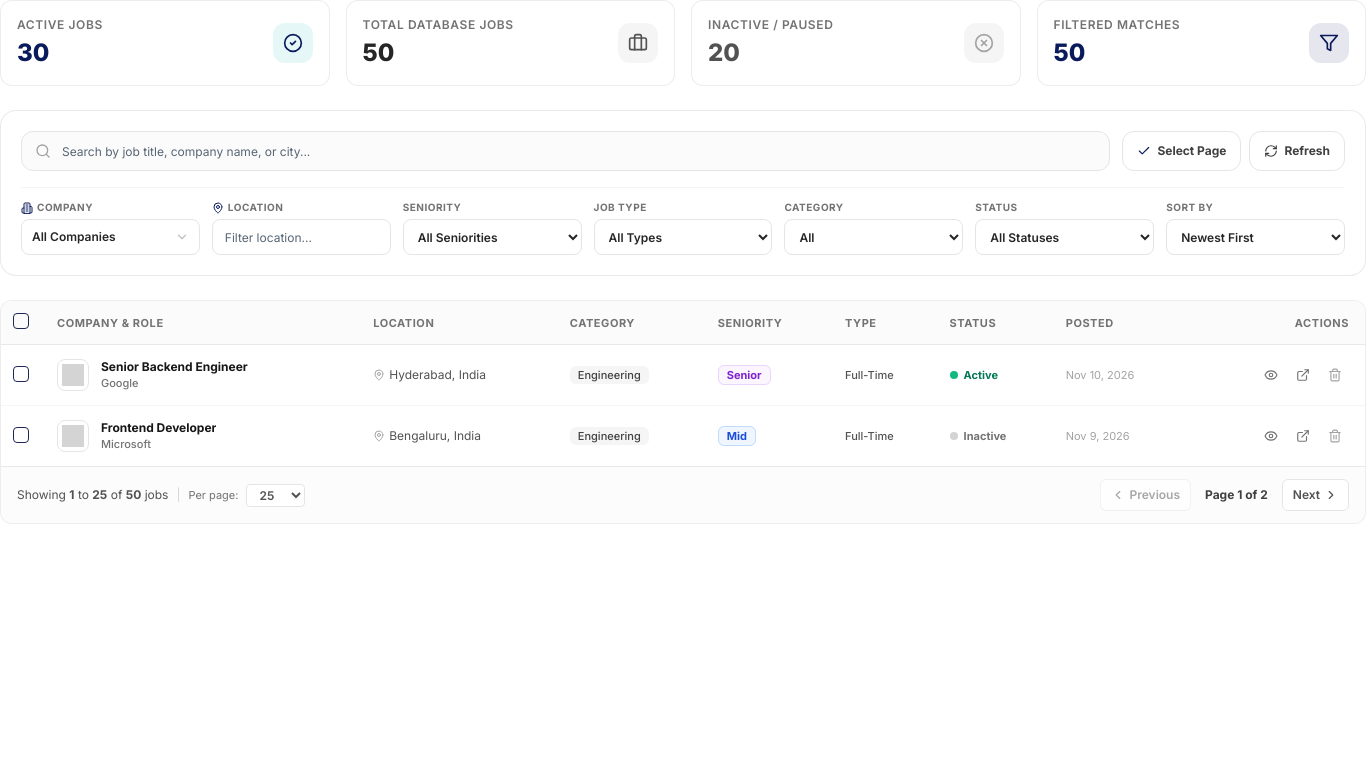
Test case: Admin JobsTab Component › allows selecting all matching jobs across all pages and deleting
The image size is (1366, 768).
Later steps or results of the test are not shown.
Expected: the button "Senior Backend Engineer" is shown, [101,359,248,375]
# Header checkbox to select all on page
Step 1. Click the checkbox named "Select all jobs on current page" → point(21, 321), box [13,313,29,329]
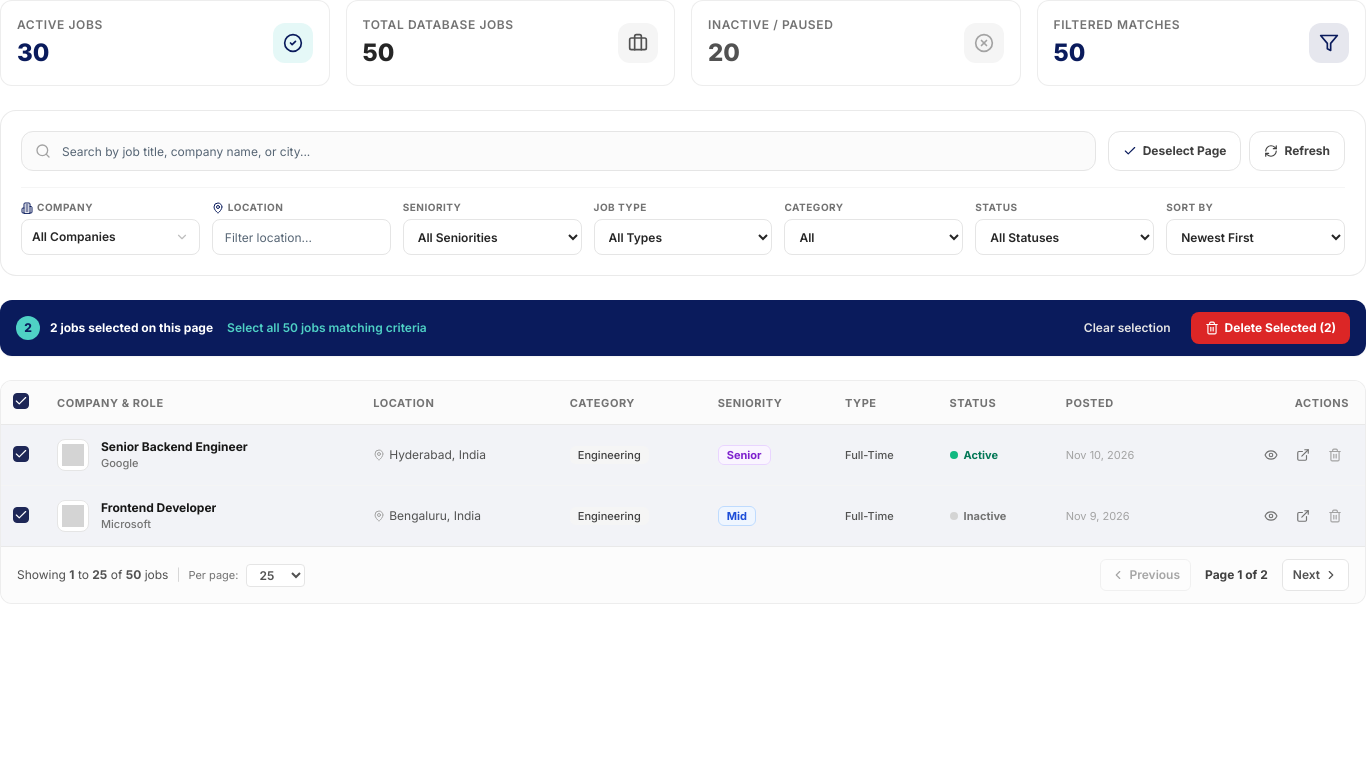
Now the button "Select all 50 jobs matching criteria" is shown
Step 2. Click the button "Select all 50 jobs matching criteria" → point(327, 328), box [227,320,427,336]
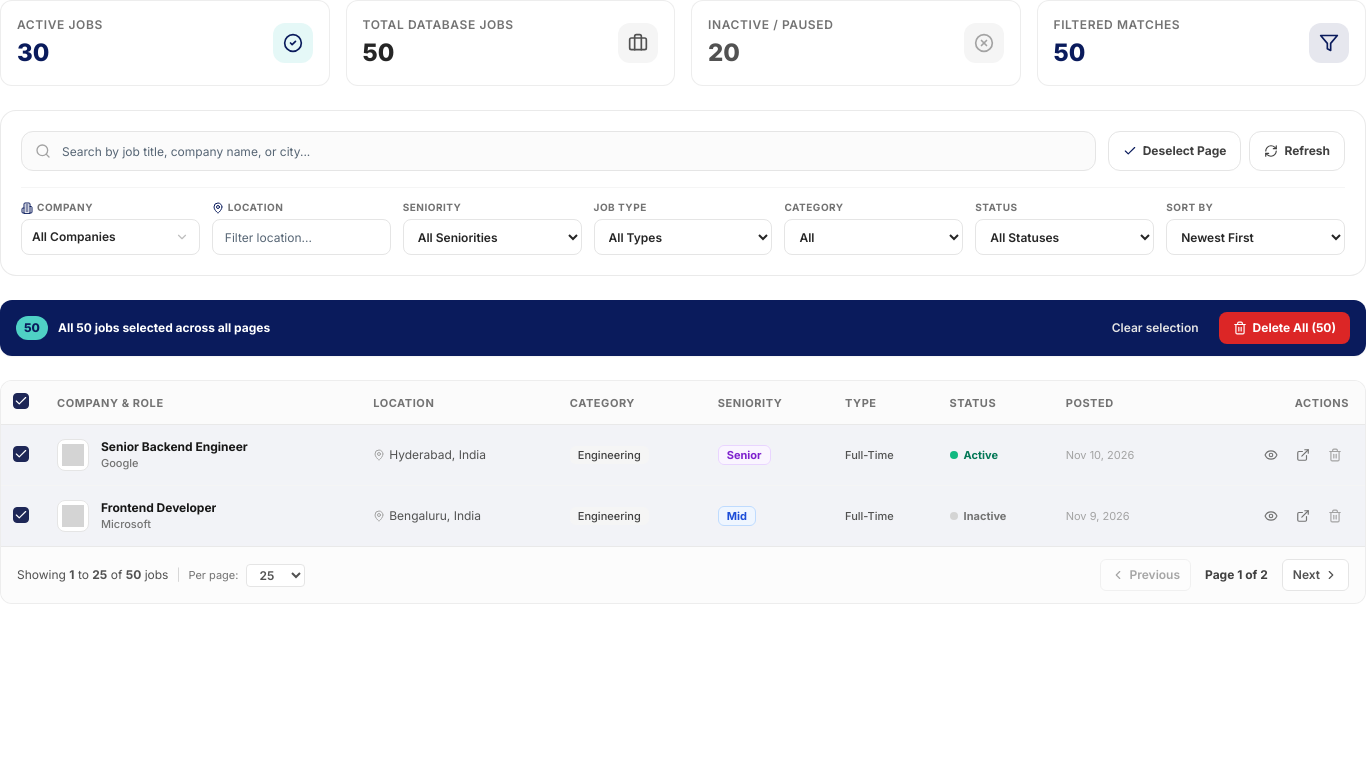
Now the text "All 50 jobs selected across all pages" is shown, box [58,320,270,336]
Now the button "Delete All (50)" is shown
# Click delete all
Step 3. Click the button "Delete All (50)" → point(1284, 328), box [1219,312,1350,344]
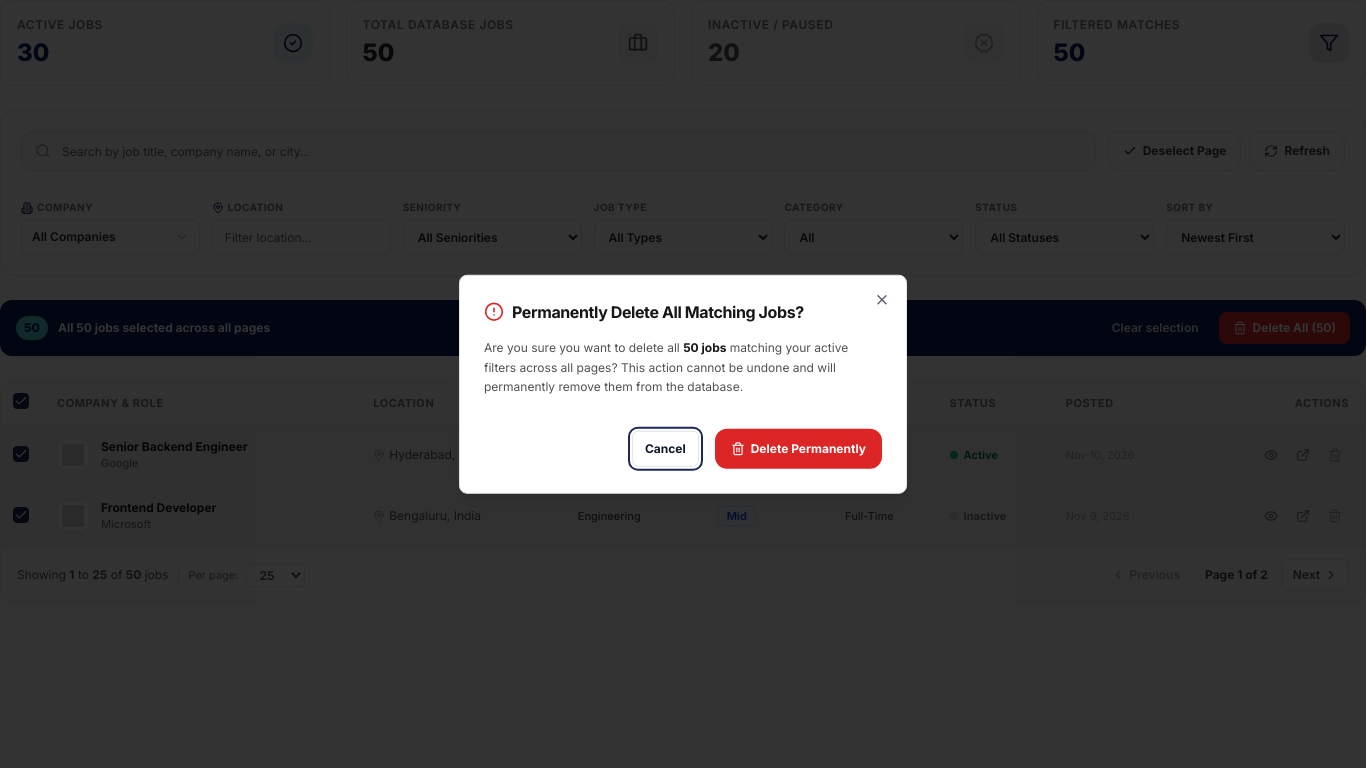
Now the heading "Permanently Delete All Matching Jobs?" is shown, box [484,302,804,322]
